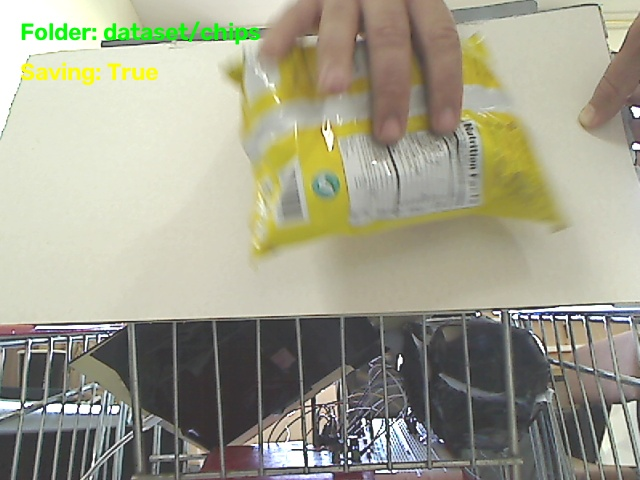chips: (227, 36, 564, 255)
